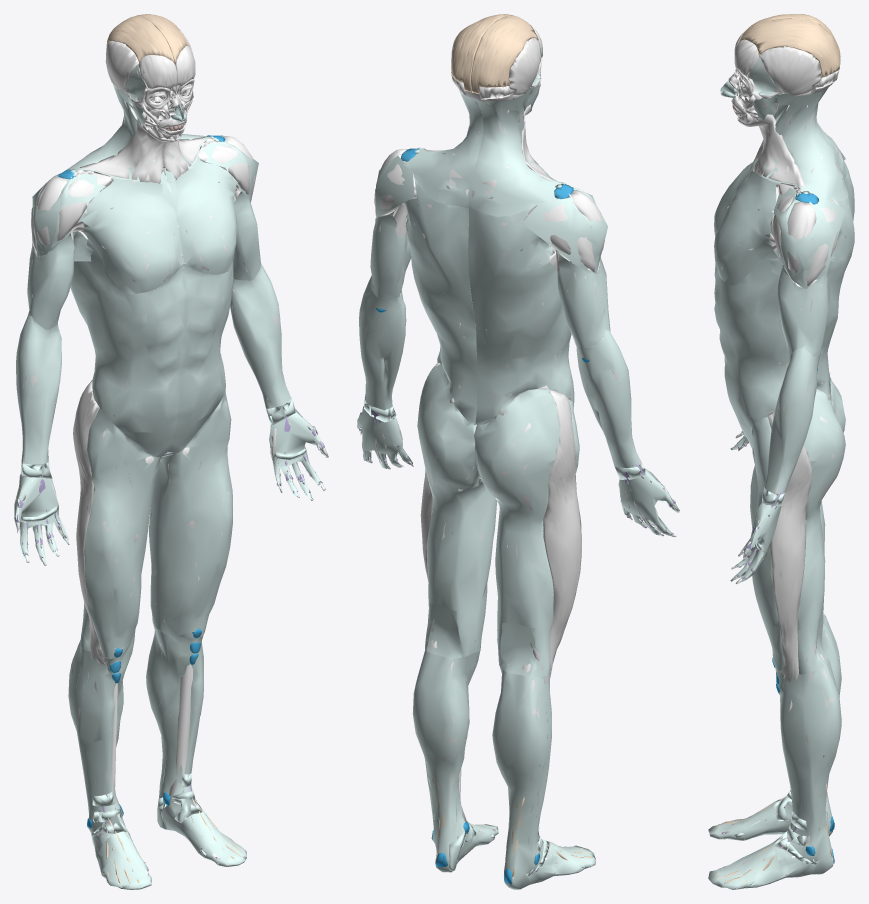
File: overview.glb
The picture shows the model from 3 angles, left to right: view 1: azimuth 30°, elevation 25°; view 2: azimuth 150°, elevation 25°; view 3: azimuth 270°, elevation 25°; orthographic projection. The views are drawn at different scales.
Parts seen in each view (by area): view 1: Investing abdominal fascia.r, Fascia lata.l, Fascia lata.r, Crural fascia.r, Pectoral fascia.r, Crural fascia.l, Investing abdominal fascia.l, Pectoral fascia.l, Antebrachial fascia.r, Antebrachial fascia.l, Brachial fascia.r, Iliotibial tract.r (+16 smaller); view 2: Investing abdominal fascia.r, Fascia lata.r, Fascia lata.l, Crural fascia.r, Investing abdominal fascia.l, Crural fascia.l, Superficial investing cervical fascia.r, Iliotibial tract.r, Antebrachial fascia.r, Antebrachial fascia.l, Superficial investing cervical fascia.l, Brachial fascia.r (+12 smaller); view 3: Investing abdominal fascia.l, Crural fascia.l, Fascia lata.l, Iliotibial tract.l, Pectoral fascia.l, Superficial investing cervical fascia.l, Antebrachial fascia.l, Brachial fascia.l, Deltoid fascia.l, Epicranial aponeurosis.l, Crural fascia.r, Temporoparietalis muscle.l (+16 smaller).
Part boxes in pixels (x1,y1,x2,y2): Investing abdominal fascia.r: [70, 239, 185, 457]; Fascia lata.l: [148, 391, 232, 638]; Fascia lata.r: [73, 380, 161, 658]; Crural fascia.r: [68, 641, 151, 889]; Pectoral fascia.r: [78, 178, 182, 294]; Crural fascia.l: [146, 622, 246, 866]; Investing abdominal fascia.l: [168, 262, 233, 452]; Pectoral fascia.l: [168, 158, 237, 274]; Antebrachial fascia.r: [16, 315, 61, 464]; Antebrachial fascia.l: [230, 263, 291, 408]; Brachial fascia.r: [27, 232, 74, 329]; Iliotibial tract.r: [73, 381, 107, 668]; Investing abdominal fascia.r: [468, 206, 574, 426]; Fascia lata.r: [474, 389, 581, 677]; Fascia lata.l: [417, 363, 497, 657]; Crural fascia.r: [492, 666, 595, 889]; Investing abdominal fascia.l: [402, 177, 477, 424]; Crural fascia.l: [412, 649, 498, 872]; Superficial investing cervical fascia.r: [469, 86, 570, 216]; Iliotibial tract.r: [543, 390, 581, 675]; Antebrachial fascia.r: [574, 330, 641, 468]; Antebrachial fascia.l: [359, 275, 406, 410]; Superficial investing cervical fascia.l: [400, 90, 483, 208]; Brachial fascia.r: [556, 252, 610, 347]; Investing abdominal fascia.l: [714, 195, 854, 448]; Crural fascia.l: [708, 657, 841, 889]; Fascia lata.l: [750, 390, 845, 674]; Iliotibial tract.l: [768, 412, 812, 683]; Pectoral fascia.l: [714, 171, 776, 285]; Superficial investing cervical fascia.l: [752, 87, 848, 203]; Antebrachial fascia.l: [764, 348, 820, 493]; Brachial fascia.l: [777, 261, 830, 357]; Deltoid fascia.l: [774, 188, 845, 288]; Epicranial aponeurosis.l: [738, 18, 840, 78]; Crural fascia.r: [708, 616, 841, 840]; Temporoparietalis muscle.l: [759, 46, 821, 95].
Size of the model in its own units: 0.6692 by 1.7 by 0.269.
